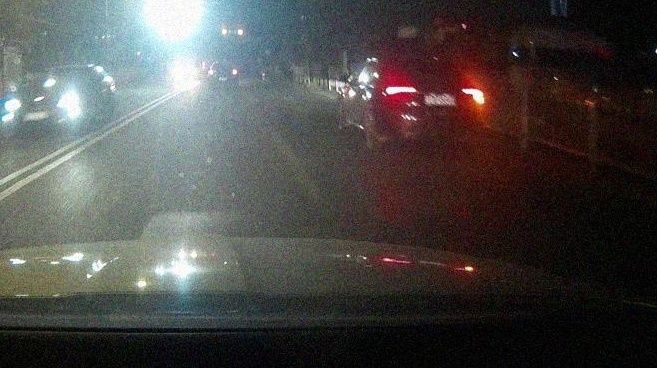L_light: (385, 86, 417, 95)
R_light: (462, 89, 484, 104)
T_light: (421, 69, 435, 71)
night-right: (380, 61, 485, 151)
